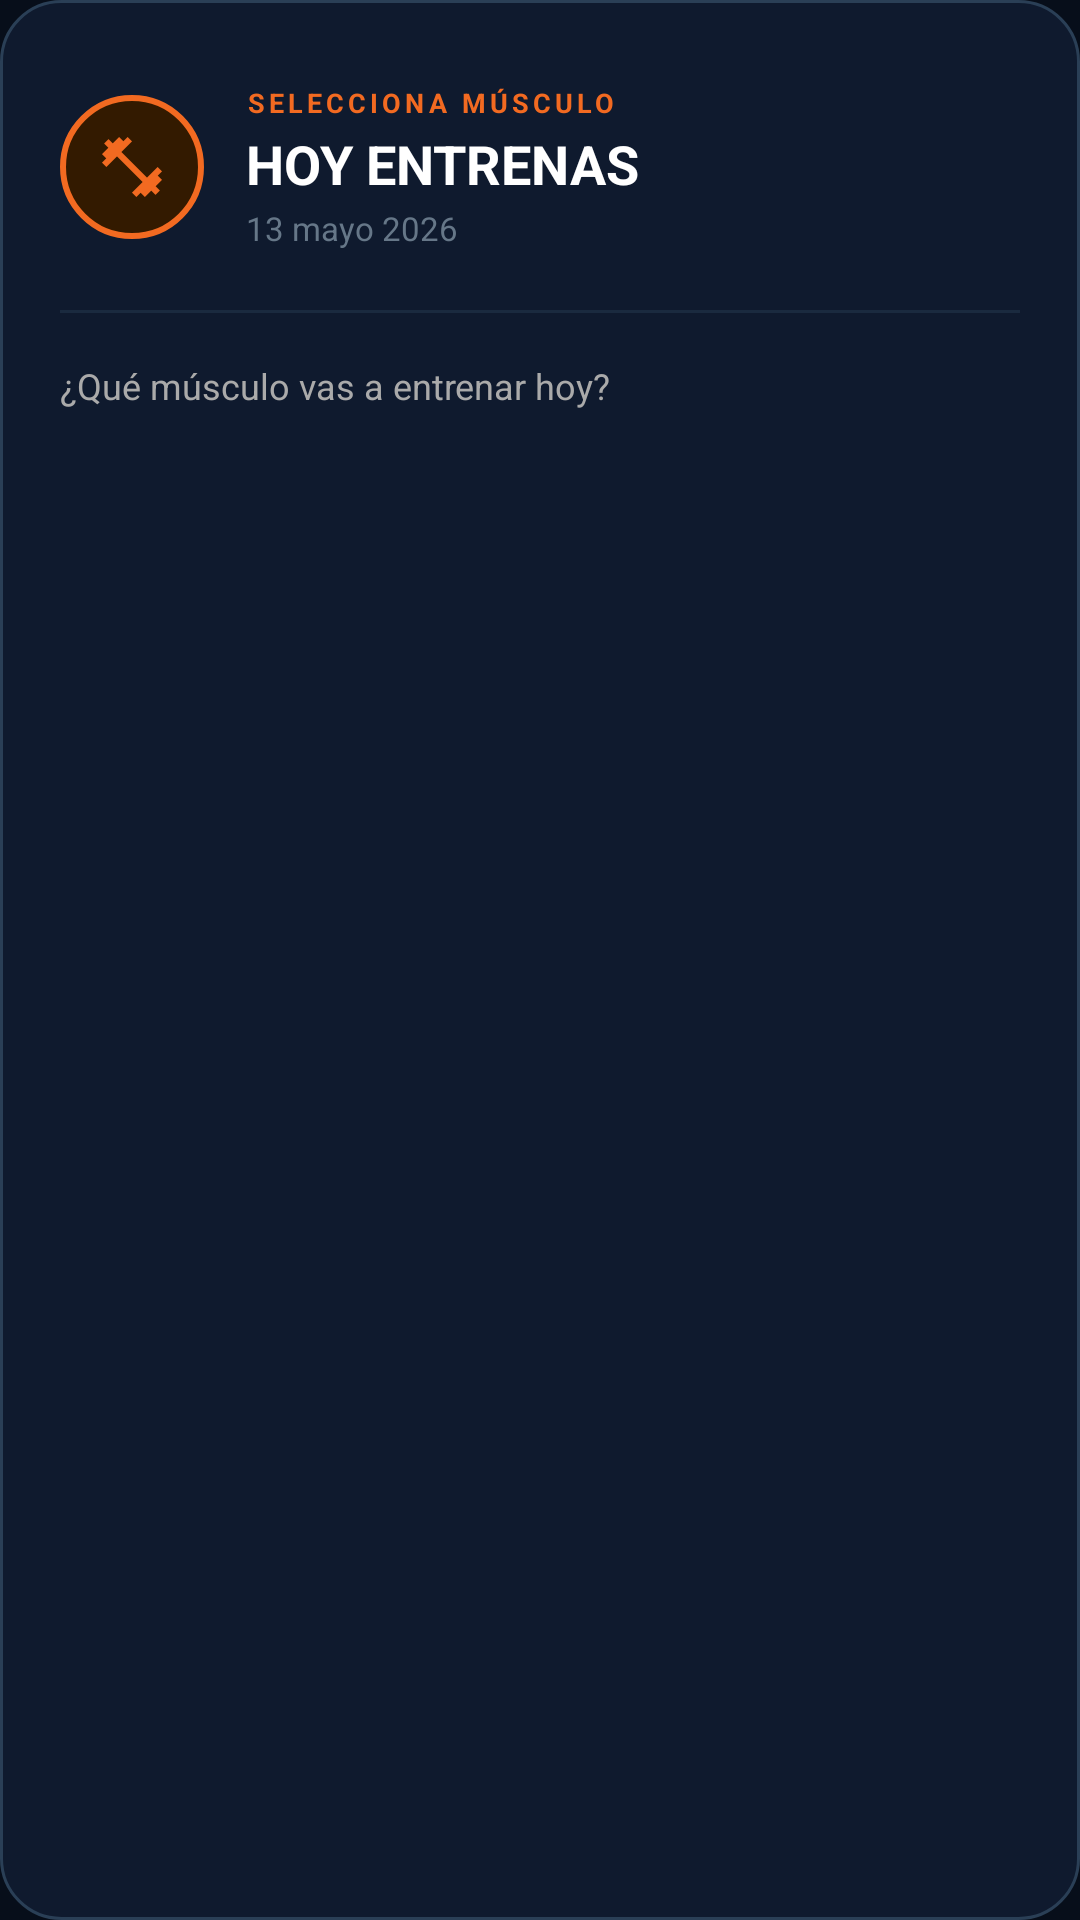

Icon click points for this 1080*1920 phone screenshot, format [x,y]:
Entreno: [132,167]
